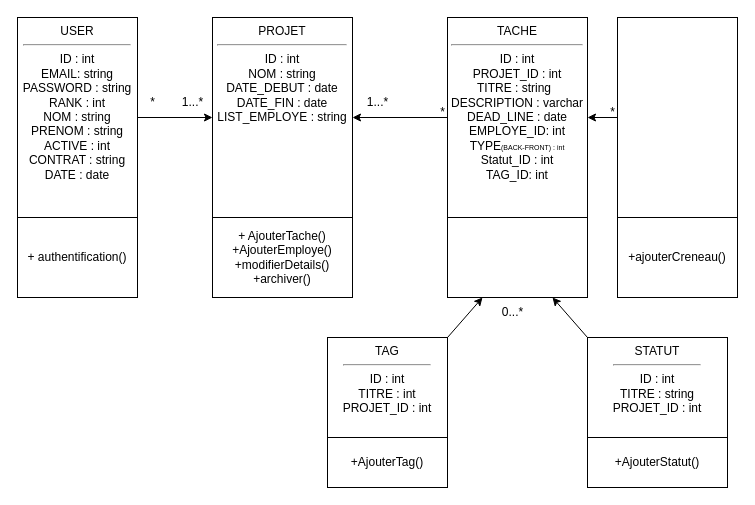
The diagram is 755 pixels wide and 505 high, and some of its shapes have lost their labels. The shapes that lost their labels are listed below. From the top down, each one's box as (x1, y1, x2, y2) in pixels, then its label:
(616, 16, 738, 218): CRENEAU ID : int TACHE_ID : int USER_ID : int DATE_DEBUT : date DATE_FIN : date
(446, 216, 588, 298): +assignerEmployé() +changerStatut() + ajouterTag() + ajouterTemps()
